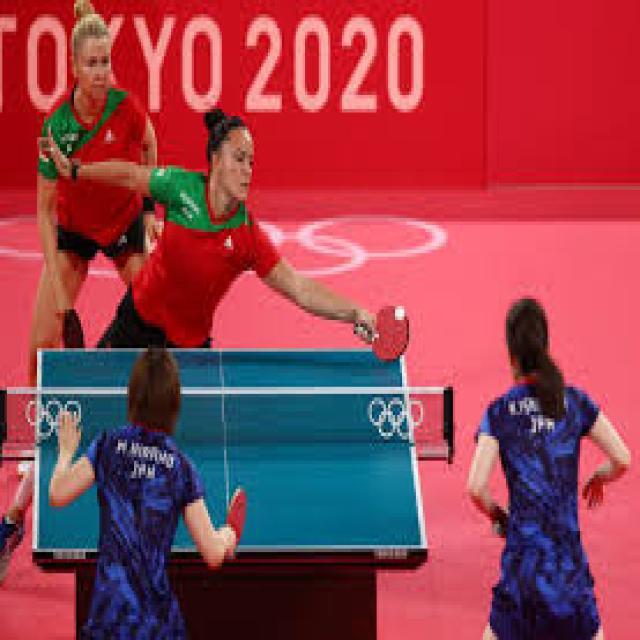TT Net: (2, 383, 456, 460)
TT Racket: (364, 293, 418, 372), (221, 480, 255, 548), (56, 300, 89, 366)
TT Table: (36, 347, 430, 550)
